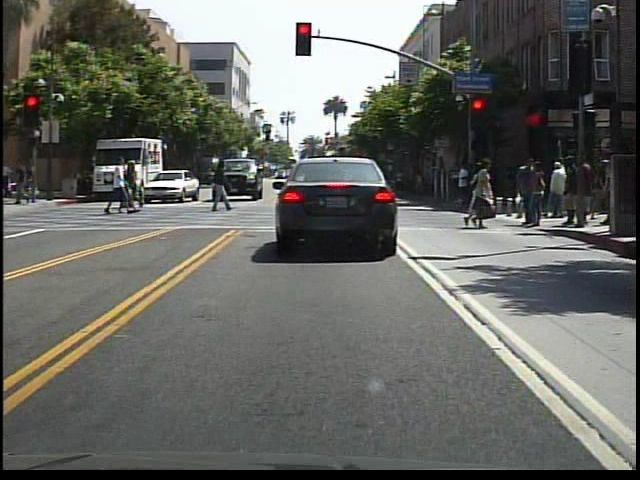person: (318, 125, 356, 240), (461, 160, 504, 232), (208, 159, 236, 217), (105, 156, 130, 220), (549, 152, 571, 224), (10, 160, 38, 207), (123, 158, 144, 213), (123, 163, 142, 215)
